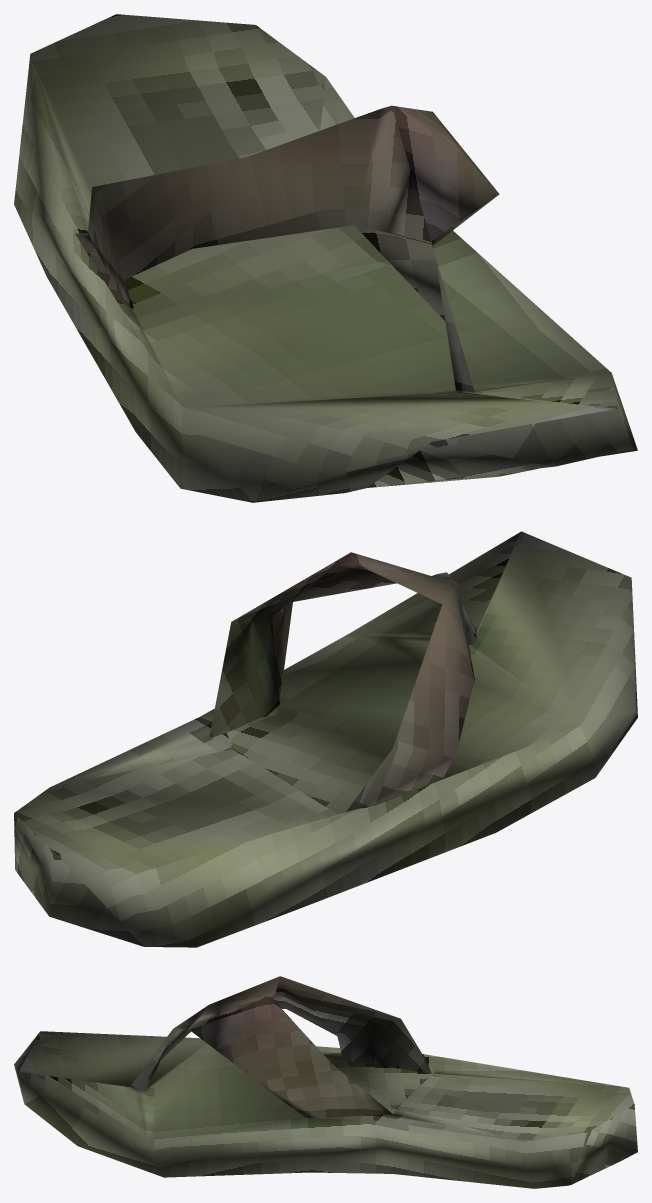
File: Mens_Santa_Cruz_Thong_in_Chocolate_lvxYW7lek6B-low.glb
3 views of the same model, one above another, from view 1: azimuth 30°, elevation 25°; view 2: azimuth 150°, elevation 25°; view 3: azimuth 270°, elevation 25° (orthographic). The views are drawn at different scales.
Parts seen in each view (by area): view 1: Mens_Santa_Cruz_Thong_in_Chocolate_lvxYW7lek6B; view 2: Mens_Santa_Cruz_Thong_in_Chocolate_lvxYW7lek6B; view 3: Mens_Santa_Cruz_Thong_in_Chocolate_lvxYW7lek6B.
Boxes of the visible parts, x1,y1,x2,y2 form: Mens_Santa_Cruz_Thong_in_Chocolate_lvxYW7lek6B: (14,14,637,502); Mens_Santa_Cruz_Thong_in_Chocolate_lvxYW7lek6B: (14,531,637,947); Mens_Santa_Cruz_Thong_in_Chocolate_lvxYW7lek6B: (14,976,637,1188).
Size of the model in its own units: 0.1296 by 0.0823 by 0.2875.
Materials: 1 (1 with a texture image).
